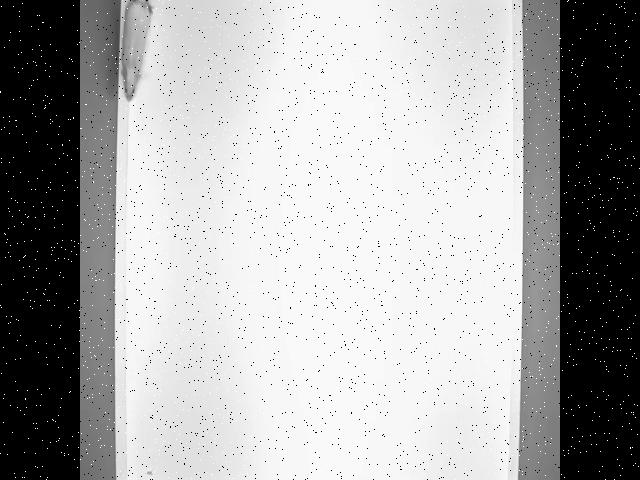Tikus: (114, 0, 154, 99)
